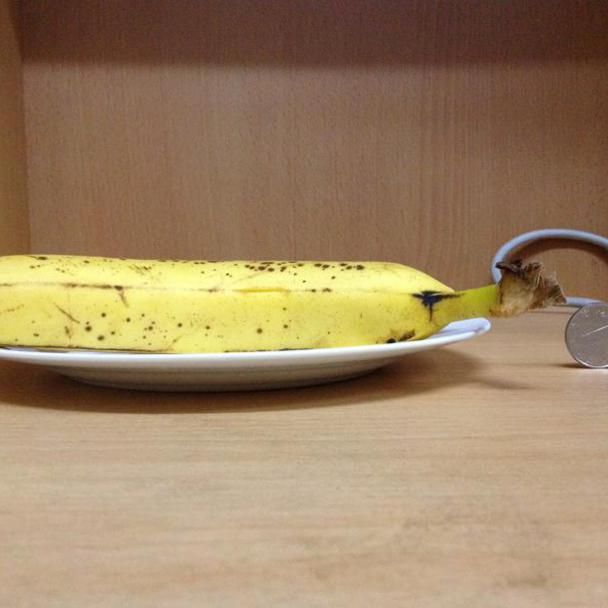banana: (2, 246, 546, 348)
